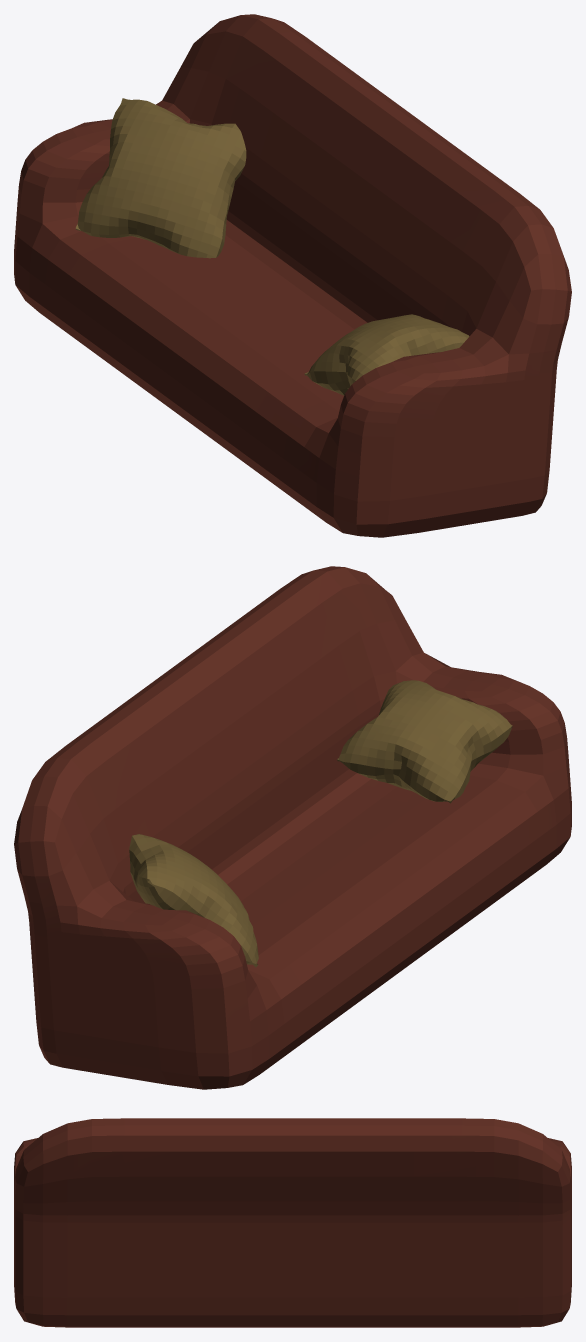
File: canapea.fbx
The picture shows the model from 3 angles, top to bottom: view 1: azimuth 30°, elevation 25°; view 2: azimuth 150°, elevation 25°; view 3: azimuth 270°, elevation 25°; orthographic projection. The views are drawn at different scales.
Visible parts, largest first — view 1: Cube.024; view 2: Cube.024; view 3: Cube.024.
Part boxes in pixels (<box>): Cube.024: <box>14,14,571,537</box>; Cube.024: <box>14,566,571,1089</box>; Cube.024: <box>14,1118,571,1327</box>.
Bounding box in the file's own units: 135 × 147 × 341.
